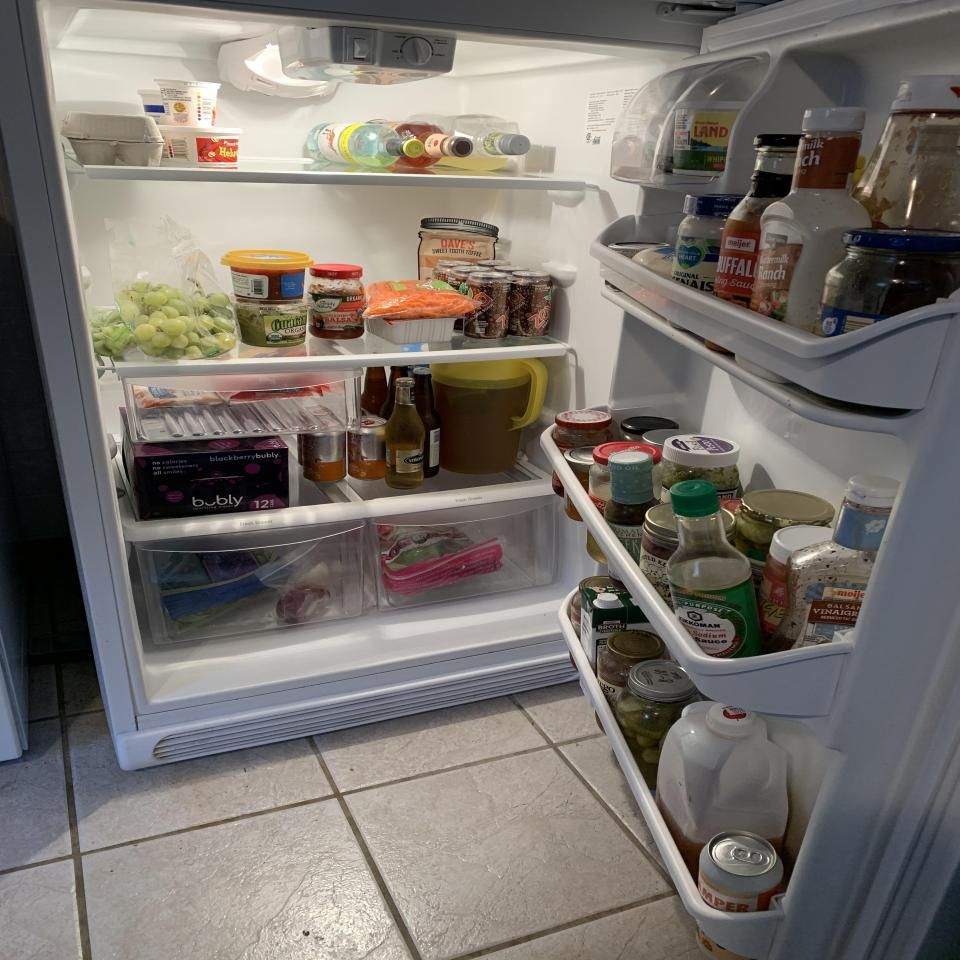Huevos: (60, 112, 165, 167)
Lechuga/Endivia: (376, 521, 506, 597)
Yogur: (137, 89, 170, 125)
Zanahoria: (360, 279, 482, 321)
